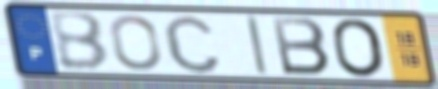B: (46, 10, 112, 73), (268, 15, 333, 78)
C: (160, 12, 224, 76)
I: (243, 13, 271, 77)
O: (329, 16, 390, 79), (107, 13, 164, 72)
